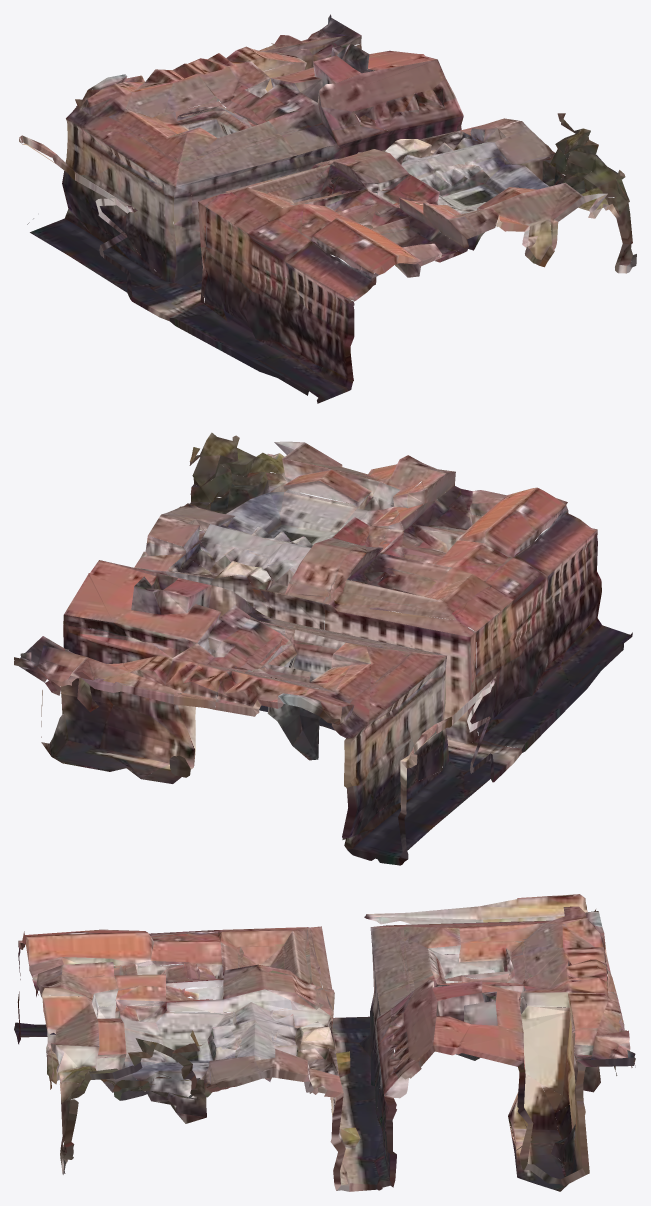
3 renders of one model, top to bottom at view 1: azimuth 30°, elevation 25°; view 2: azimuth 150°, elevation 25°; view 3: azimuth 270°, elevation 25°, orthographic. The views are drawn at different scales.
Visible parts, largest first — view 1: Mesh_0; view 2: Mesh_0; view 3: Mesh_0.
Part boxes in pixels (bbox=[...]): Mesh_0: bbox=[19, 14, 636, 403]; Mesh_0: bbox=[14, 432, 632, 865]; Mesh_0: bbox=[14, 894, 635, 1191].
Bounding box in the file's own units: 68.35 × 27.64 × 82.57.
2 materials, 2 textured.
